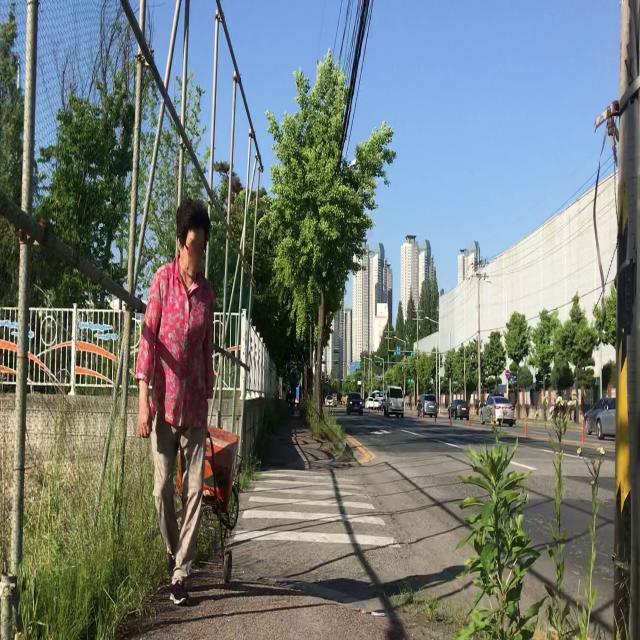횡단보도: (232, 467, 402, 550)
